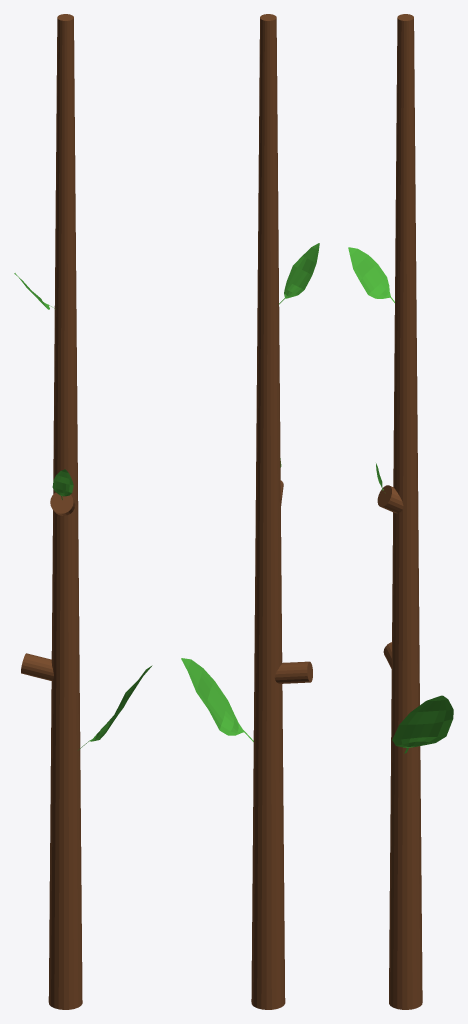
The model's file is starterRodv3.gltf.
The picture shows the model from 3 angles, left to right: view 1: azimuth 30°, elevation 25°; view 2: azimuth 210°, elevation 25°; view 3: azimuth 330°, elevation 25°; orthographic projection.
Parts seen in each view (by area): view 1: Palica, Listek.001, Listek.002; view 2: Palica, Listek.001, Listek; view 3: Palica, Listek.001, Listek.
Part boxes in pixels (bbox=[...]): Palica: bbox=[21, 14, 82, 1009]; Listek.001: bbox=[78, 665, 152, 750]; Listek.002: bbox=[52, 469, 73, 499]; Palica: bbox=[251, 14, 312, 1009]; Listek.001: bbox=[181, 658, 253, 741]; Listek: bbox=[279, 243, 319, 304]; Palica: bbox=[377, 14, 422, 1009]; Listek.001: bbox=[392, 695, 453, 753]; Listek: bbox=[348, 247, 394, 302].
Bounding box in the file's own units: 5.62 × 45.5 × 4.11.
